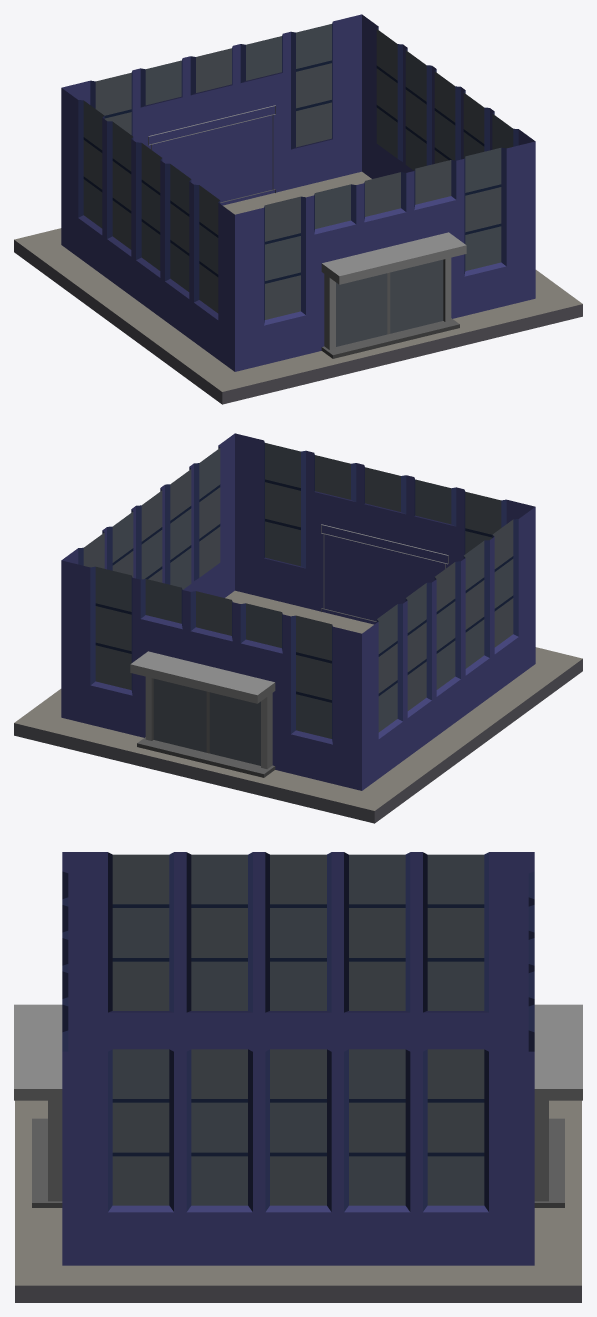
Rendered from TB_CITY_Skysc_M_Bottom_Purple.FBX.
3 renders of one model, top to bottom at view 1: azimuth 30°, elevation 25°; view 2: azimuth 150°, elevation 25°; view 3: azimuth 270°, elevation 25°, orthographic. The views are drawn at different scales.
Visible parts, largest first — view 1: TB_CITY_Skysc_M_Bottom_Purple; view 2: TB_CITY_Skysc_M_Bottom_Purple; view 3: TB_CITY_Skysc_M_Bottom_Purple.
Boxes of the visible parts, x1,y1,x2,y2 form: TB_CITY_Skysc_M_Bottom_Purple: (14, 14, 582, 404); TB_CITY_Skysc_M_Bottom_Purple: (14, 433, 582, 823); TB_CITY_Skysc_M_Bottom_Purple: (14, 852, 582, 1302).
Size of the model in its own units: 24 by 10.8 by 24.09.
